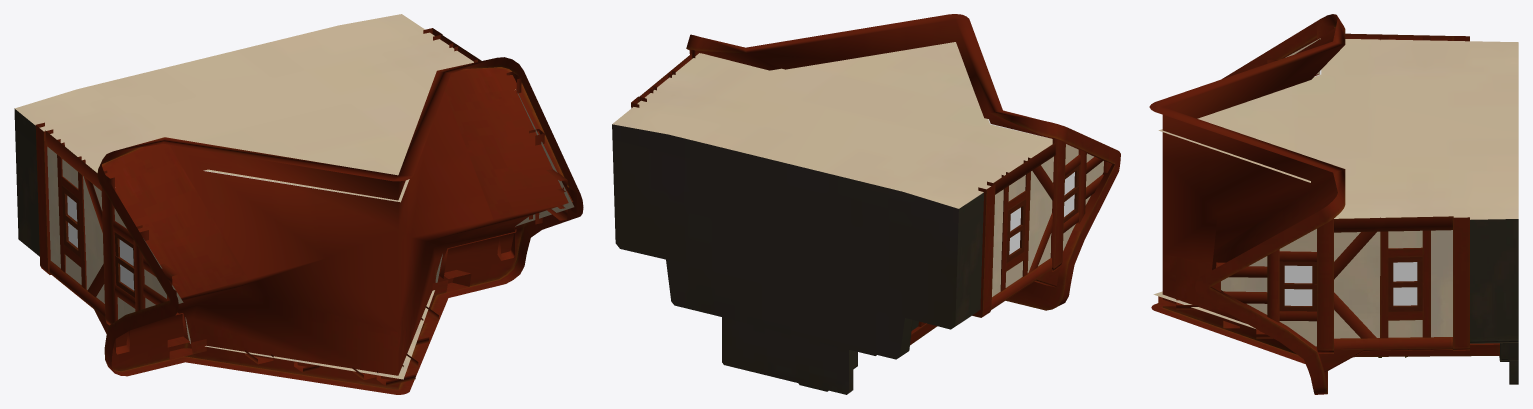
The model's file is house-chalet-red.glb.
The picture shows the model from 3 angles, left to right: view 1: azimuth 30°, elevation 25°; view 2: azimuth 150°, elevation 25°; view 3: azimuth 270°, elevation 25°; orthographic projection. The views are drawn at different scales.
Parts seen in each view (by area): view 1: HouseWallPA04WoodframeC_node10, HouseWallPA04WoodframeC_node18, HouseWallPA04WoodframeC_node15; view 2: HouseWallPA04WoodframeC_node10, HouseWallPA04WoodframeC_node18, HouseWallPA04WoodframeC_node15; view 3: HouseWallPA04WoodframeC_node10, HouseWallPA04WoodframeC_node18, HouseWallPA04WoodframeC_node15.
Boxes of the visible parts, <box> form: HouseWallPA04WoodframeC_node10: <box>14,14,583,394</box>; HouseWallPA04WoodframeC_node18: <box>35,28,576,386</box>; HouseWallPA04WoodframeC_node15: <box>67,195,134,290</box>; HouseWallPA04WoodframeC_node10: <box>612,14,1120,394</box>; HouseWallPA04WoodframeC_node18: <box>631,49,1112,345</box>; HouseWallPA04WoodframeC_node15: <box>1009,172,1074,254</box>; HouseWallPA04WoodframeC_node10: <box>1149,14,1518,394</box>; HouseWallPA04WoodframeC_node18: <box>1158,25,1499,372</box>; HouseWallPA04WoodframeC_node15: <box>1284,262,1417,305</box>.
Size of the model in its own units: 48.63 by 29.5 by 39.51.
7 materials, 3 textured.
